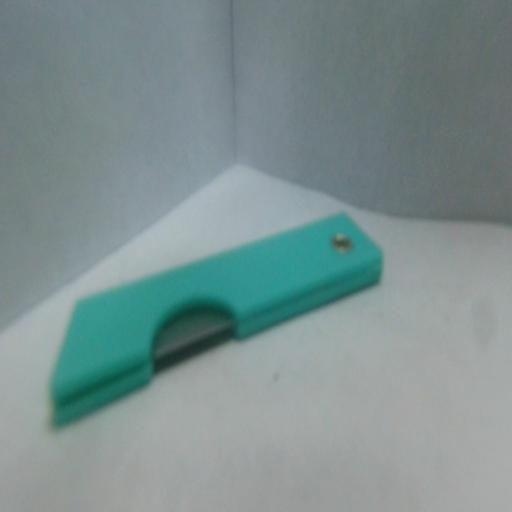rubbish: (44, 204, 386, 438)
